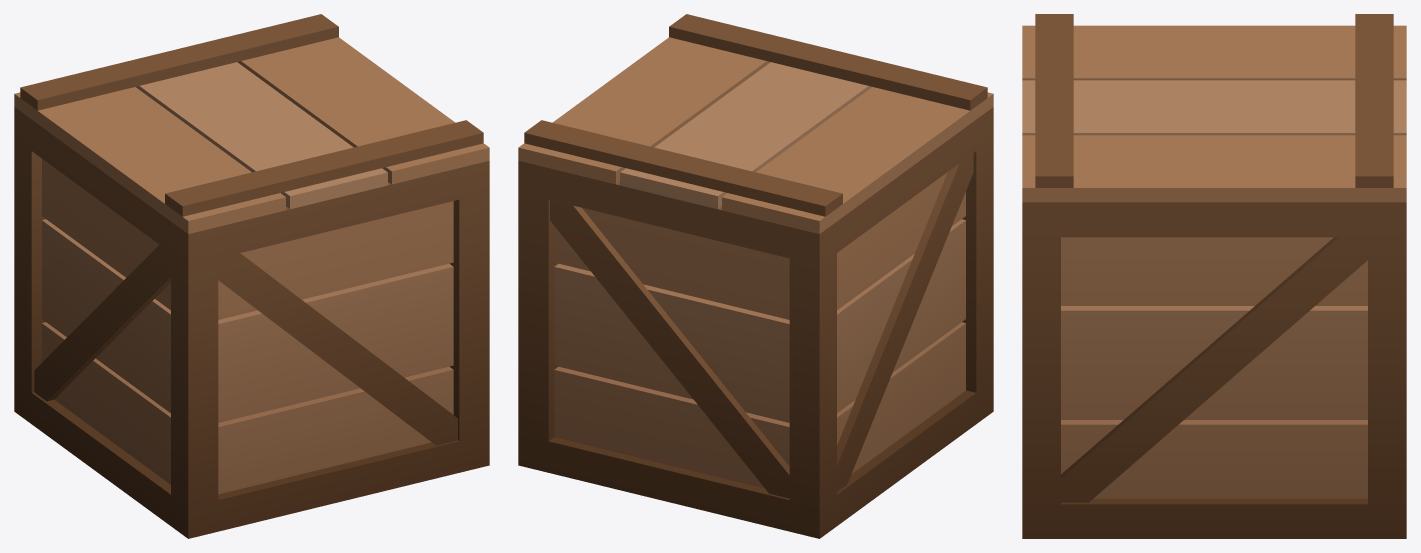
File: Crate_01.fbx
3 renders of one model, left to right at view 1: azimuth 30°, elevation 25°; view 2: azimuth 150°, elevation 25°; view 3: azimuth 270°, elevation 25°, orthographic. The views are drawn at different scales.
Parts seen in each view (by area): view 1: Crate_Frame, Crate_Lid, Crate_Side_Front, Crate_Side_Left, Crate_Braces; view 2: Crate_Frame, Crate_Lid, Crate_Side_Back, Crate_Side_Left, Crate_Braces; view 3: Crate_Lid, Crate_Side_Right, Crate_Frame, Crate_Braces.
Boxes of the visible parts, box(x1,y1,x2,y2) form: Crate_Frame: box(14, 107, 489, 538); Crate_Lid: box(14, 14, 489, 233); Crate_Side_Front: box(218, 201, 453, 494); Crate_Side_Left: box(42, 159, 170, 484); Crate_Braces: box(34, 245, 457, 445); Crate_Frame: box(518, 107, 993, 538); Crate_Lid: box(518, 14, 993, 233); Crate_Side_Back: box(554, 208, 789, 488); Crate_Side_Left: box(837, 172, 965, 473); Crate_Braces: box(550, 153, 973, 498); Crate_Lid: box(1022, 14, 1406, 202); Crate_Side_Right: box(1061, 237, 1367, 498); Crate_Frame: box(1022, 202, 1406, 538); Crate_Braces: box(1061, 237, 1367, 502).
Bounding box in the file's own units: 0.6 × 0.625 × 0.6.
